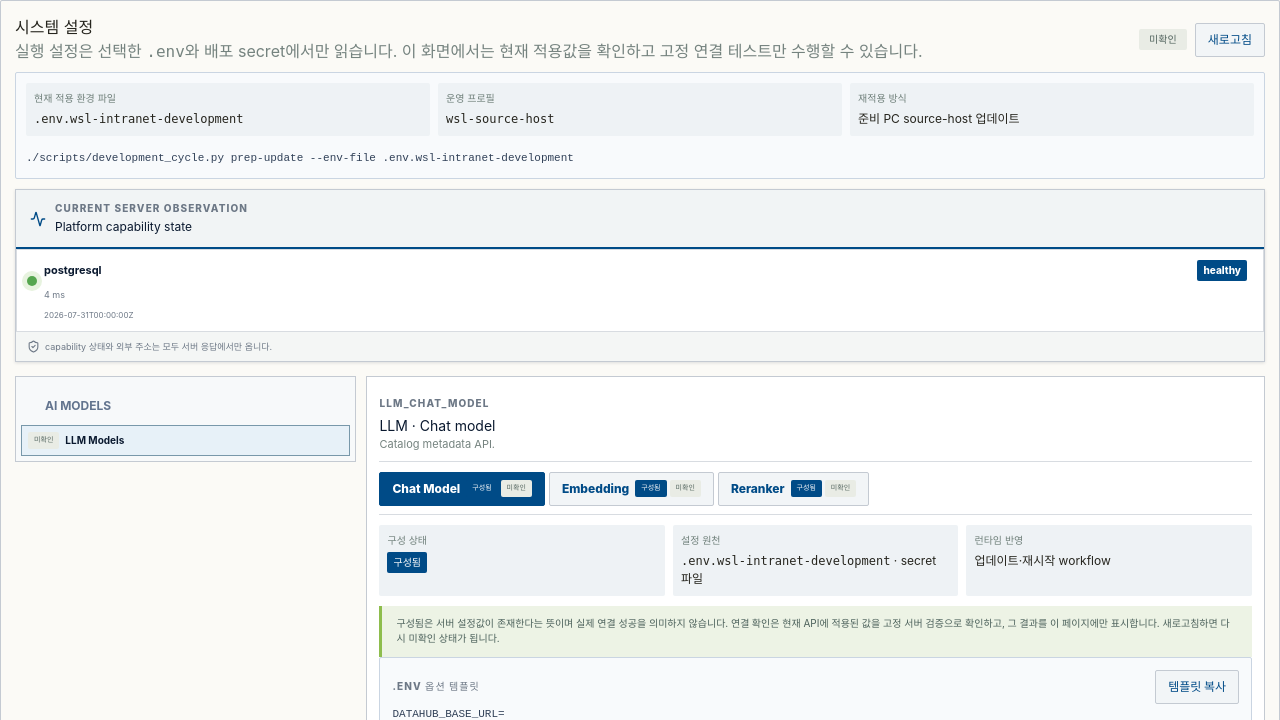
Scenario: SystemConfigurationAdmin › groups Chat, Embedding, and Reranker under one read-only LLM menu
Expected: the tab "미확인 LLM Models" is shown, x1=21 y1=425 x2=350 y2=456
Expected: the message named "Chat Model 연결 상태: 미확인" is shown, x1=501 y1=480 x2=532 y2=497
Click the button "Reranker 구성됨 미확인": click(794, 488) x1=718 y1=472 x2=869 y2=506
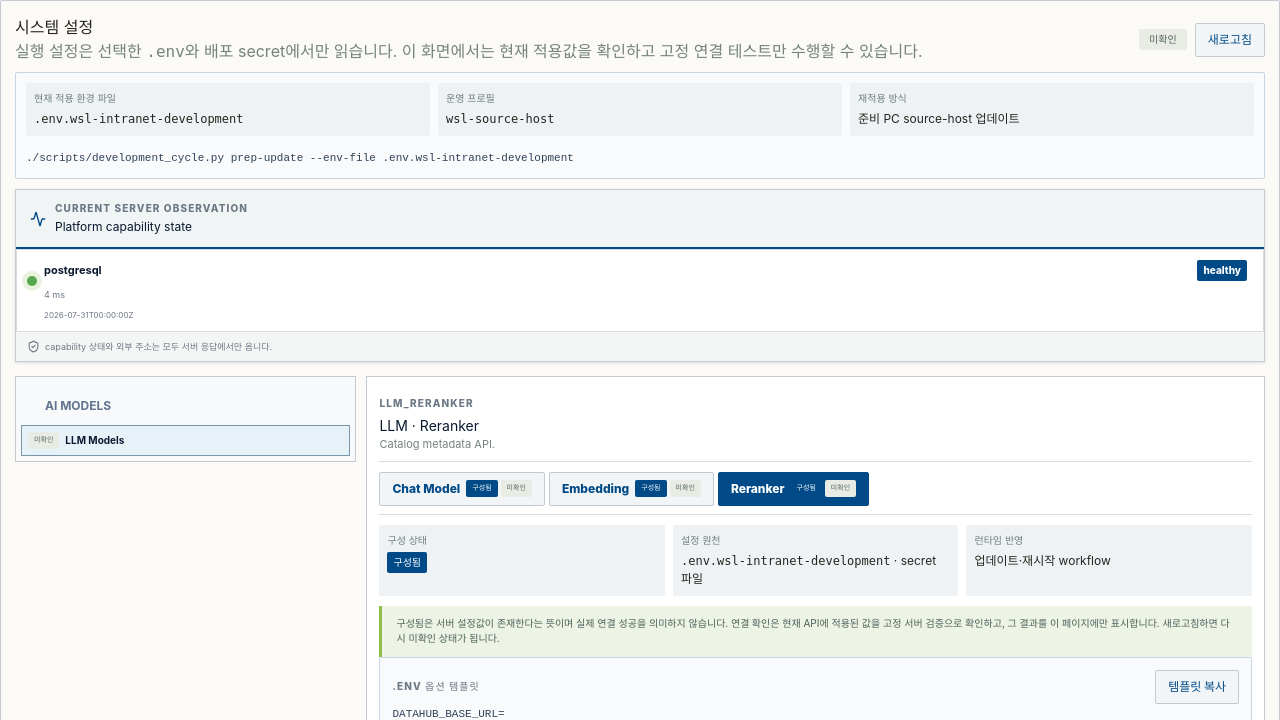
Result: the heading "LLM · Reranker" is shown at x1=379 y1=417 x2=479 y2=434
